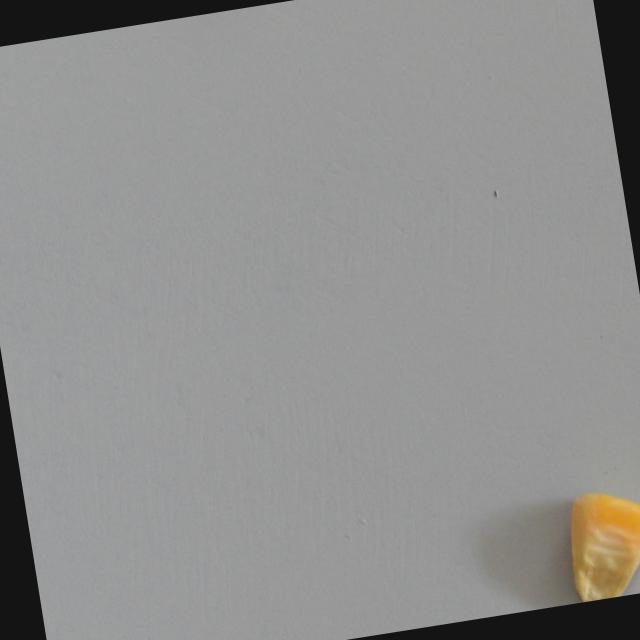entero: (554, 477, 640, 604)
